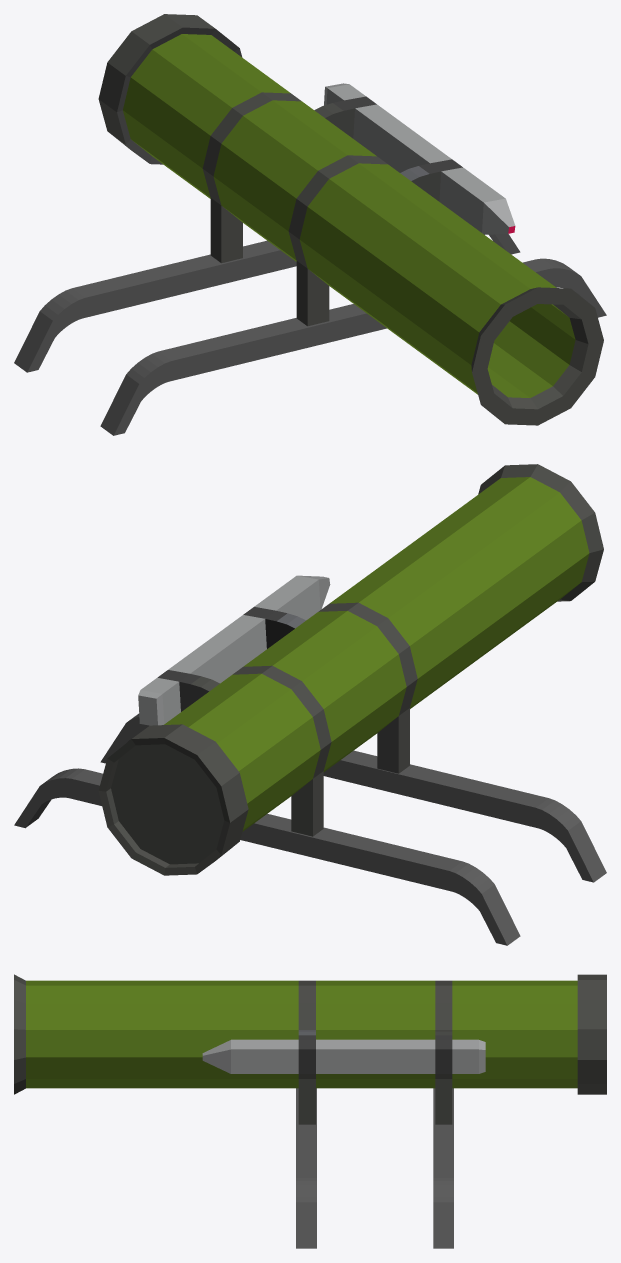
The model's file is Launcher.fbx.
3 renders of one model, top to bottom at view 1: azimuth 30°, elevation 25°; view 2: azimuth 150°, elevation 25°; view 3: azimuth 270°, elevation 25°, orthographic. The views are drawn at different scales.
Parts seen in each view (by area): view 1: Launcher, RoofRack_1, RoofRack_2; view 2: Launcher, RoofRack_2, RoofRack_1; view 3: Launcher, RoofRack_2, RoofRack_1.
Part boxes in pixels (x1,y1,x2,y2): Launcher: (98,14,603,425); RoofRack_1: (100,258,606,435); RoofRack_2: (14,234,520,372); Launcher: (98,464,603,875); RoofRack_2: (14,768,520,945); RoofRack_1: (100,713,606,882); Launcher: (14,974,606,1124); RoofRack_2: (433,1088,453,1248); RoofRack_1: (296,1088,316,1248).
Bounding box in the file's own units: 1.12 × 0.4756 × 1.47.
